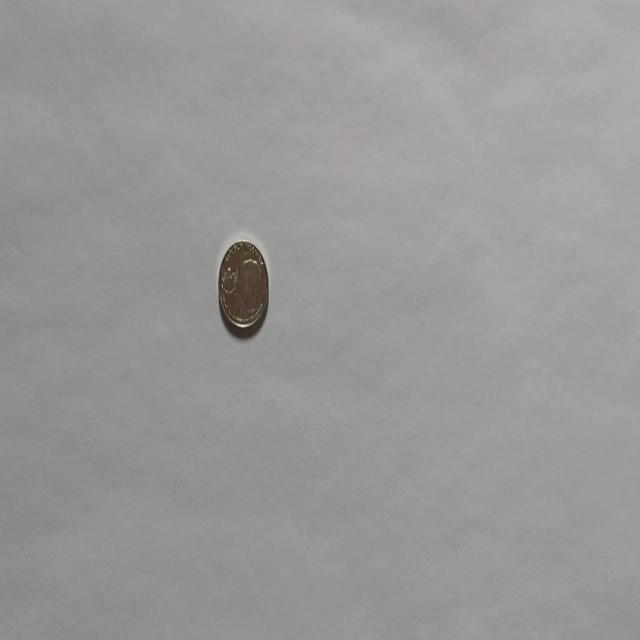seratus rupiah: (217, 238, 269, 336)
